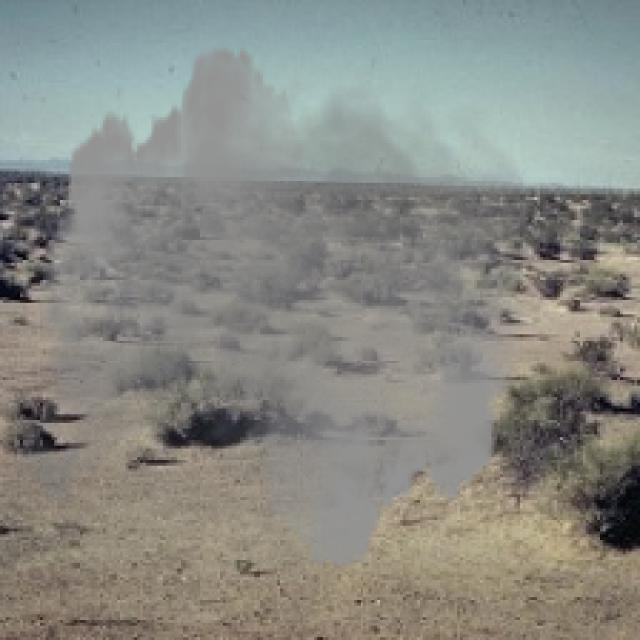smoke: (3, 28, 546, 586)
